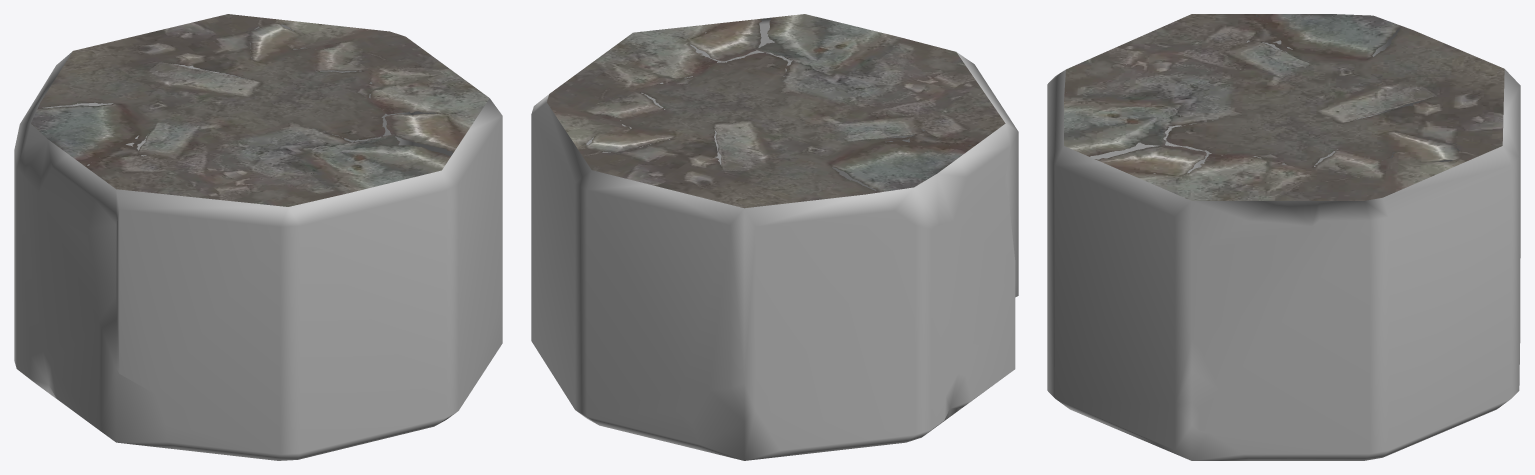
3 renders of one model, left to right at view 1: azimuth 30°, elevation 25°; view 2: azimuth 150°, elevation 25°; view 3: azimuth 270°, elevation 25°, orthographic. The views are drawn at different scales.
Parts seen in each view (by area): view 1: SM_Greathall_Corner_Broken_02_LOD0; view 2: SM_Greathall_Corner_Broken_02_LOD0; view 3: SM_Greathall_Corner_Broken_02_LOD0.
Part boxes in pixels (x1,y1,x2,y2): SM_Greathall_Corner_Broken_02_LOD0: (14, 14, 502, 460); SM_Greathall_Corner_Broken_02_LOD0: (531, 14, 1018, 460); SM_Greathall_Corner_Broken_02_LOD0: (1047, 14, 1520, 460).
Bounding box in the file's own units: 2.86 × 1.73 × 2.85.
